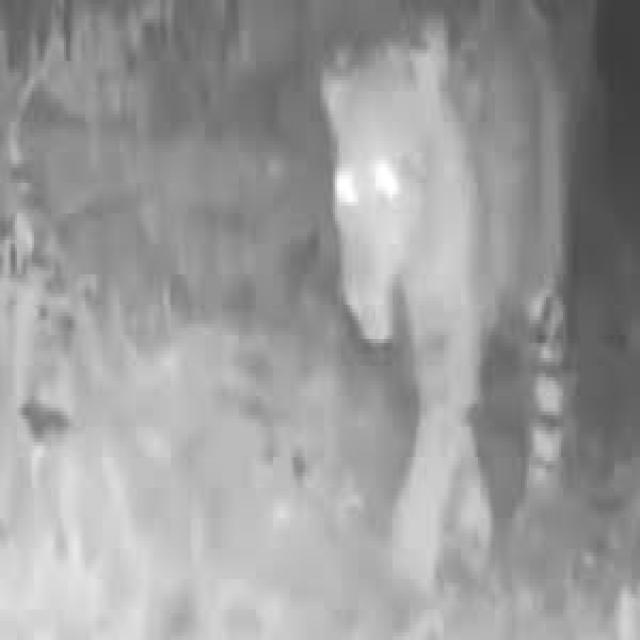Jaguar: (318, 23, 591, 552)
